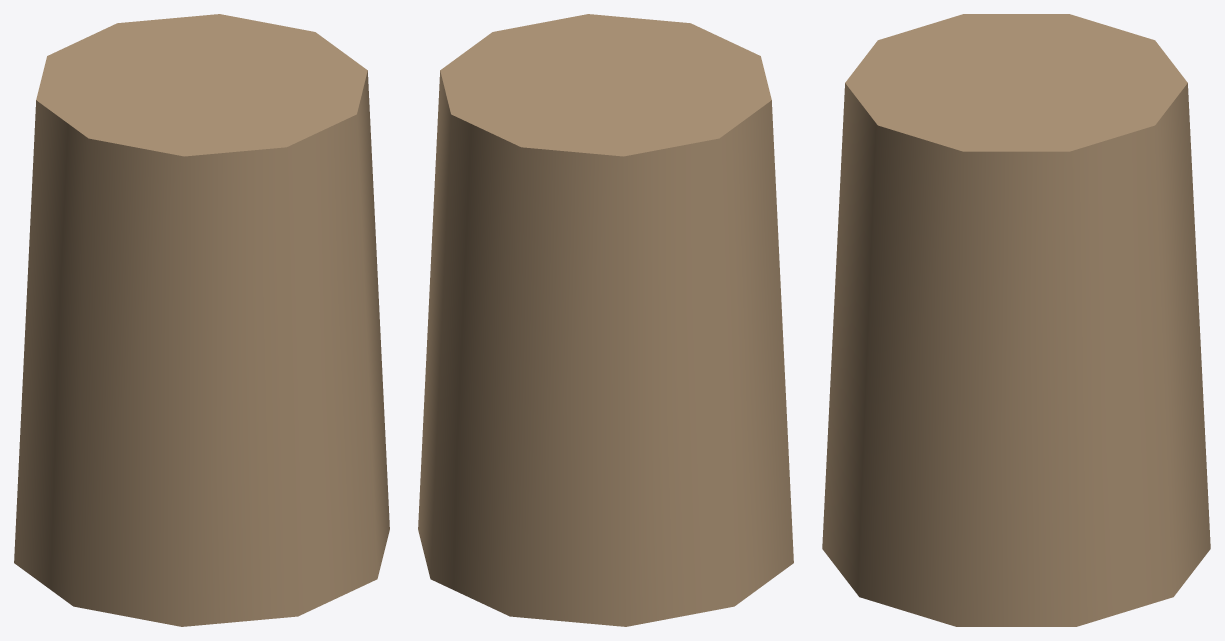
File: barrel.gltf
3 views of the same model, side by side, from view 1: azimuth 30°, elevation 25°; view 2: azimuth 150°, elevation 25°; view 3: azimuth 270°, elevation 25° (orthographic).
Parts seen in each view (by area): view 1: Barrel; view 2: Barrel; view 3: Barrel.
Boxes of the visible parts, x1,y1,x2,y2 form: Barrel: [14, 14, 389, 626]; Barrel: [418, 14, 793, 626]; Barrel: [822, 14, 1210, 626].
Bounding box in the file's own units: 0.6467 × 0.9 × 0.68.
